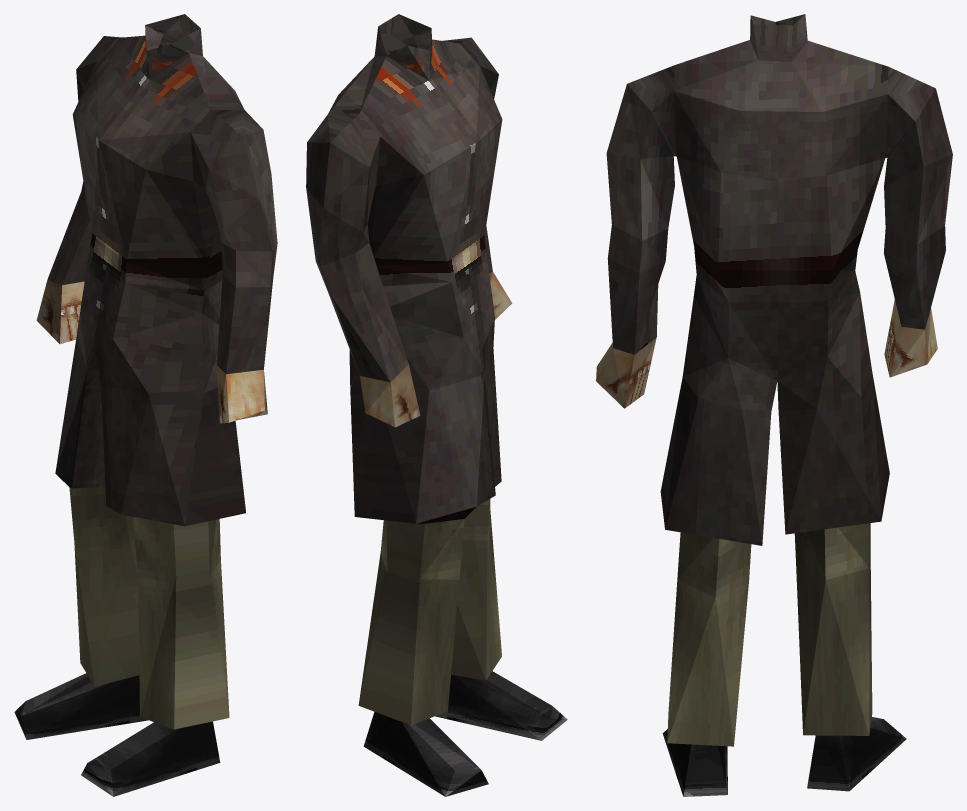
Rendered from guard.glb.
3 views of the same model, side by side, from view 1: azimuth 30°, elevation 25°; view 2: azimuth 150°, elevation 25°; view 3: azimuth 270°, elevation 25° (orthographic). The views are drawn at different scales.
Parts seen in each view (by area): view 1: Object; view 2: Object; view 3: Object.
Part boxes in pixels (bbox=[...]): Object: bbox=[14, 14, 277, 796]; Object: bbox=[306, 14, 567, 796]; Object: bbox=[596, 14, 952, 796].
Size of the model in its own units: 0.4309 by 1.8 by 0.7429.
77 materials, 77 textured.
